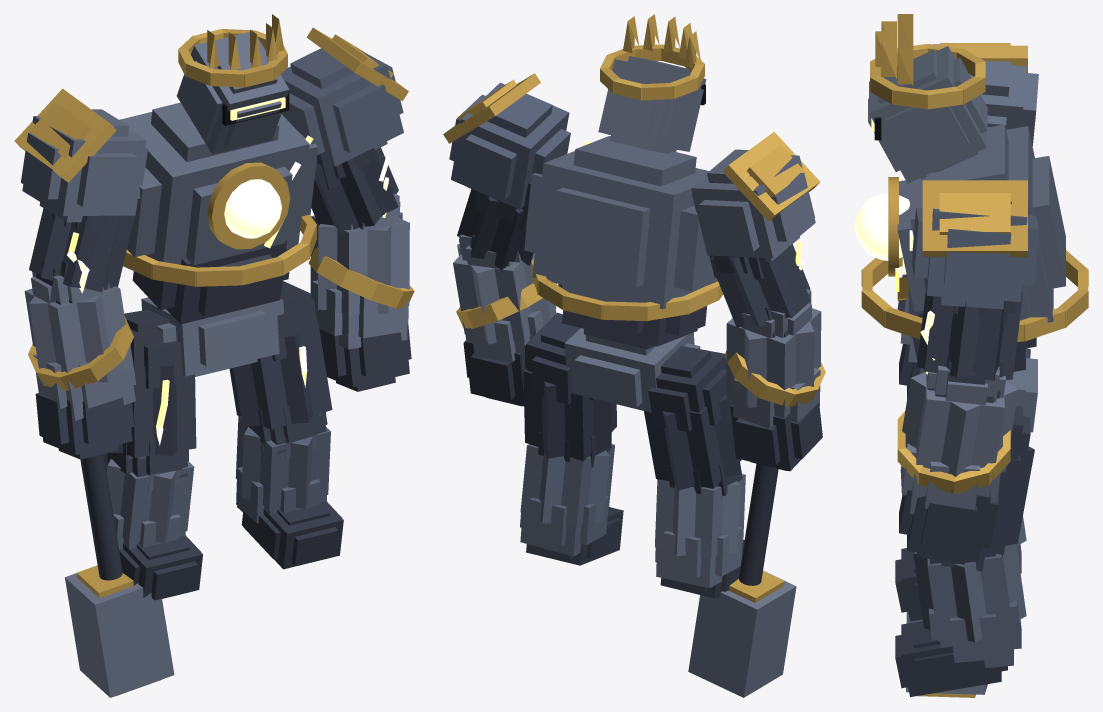
3 views of the same model, side by side, from view 1: azimuth 30°, elevation 25°; view 2: azimuth 150°, elevation 25°; view 3: azimuth 270°, elevation 25° (orthographic). The views are drawn at different scales.
Visible parts, largest first — view 1: SkyBreaker; view 2: SkyBreaker; view 3: SkyBreaker.
Boxes of the visible parts, x1,y1,x2,y2 form: SkyBreaker: (14,14,414,697); SkyBreaker: (443,14,825,697); SkyBreaker: (854,14,1088,697).
Bounding box in the file's own units: 1.01 × 1.68 × 0.4992.
